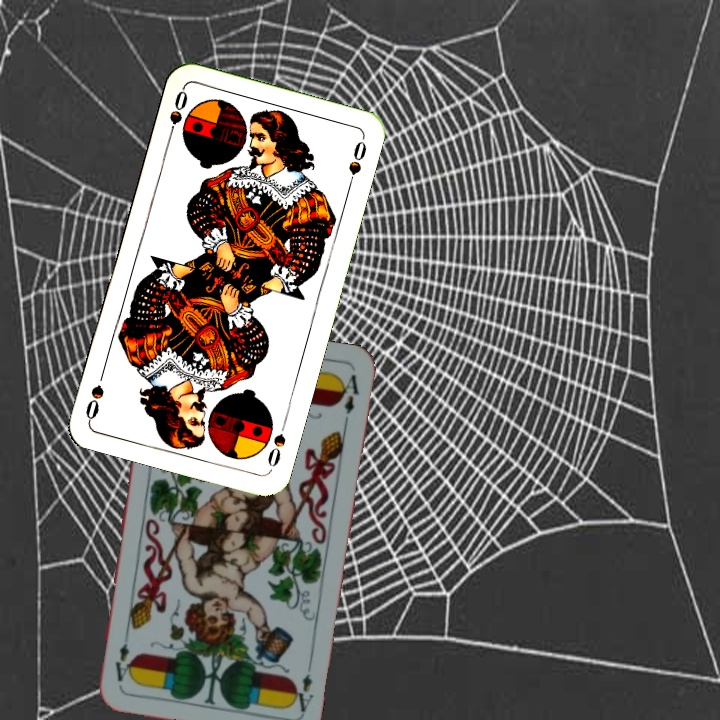EA: (288, 656, 317, 715)
SO: (164, 85, 191, 144), (263, 415, 290, 473)
